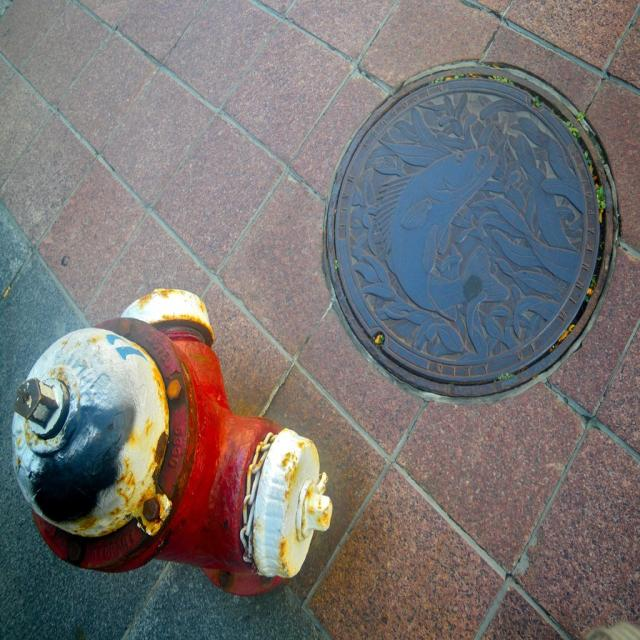fire_hydrant: (10, 288, 333, 597)
